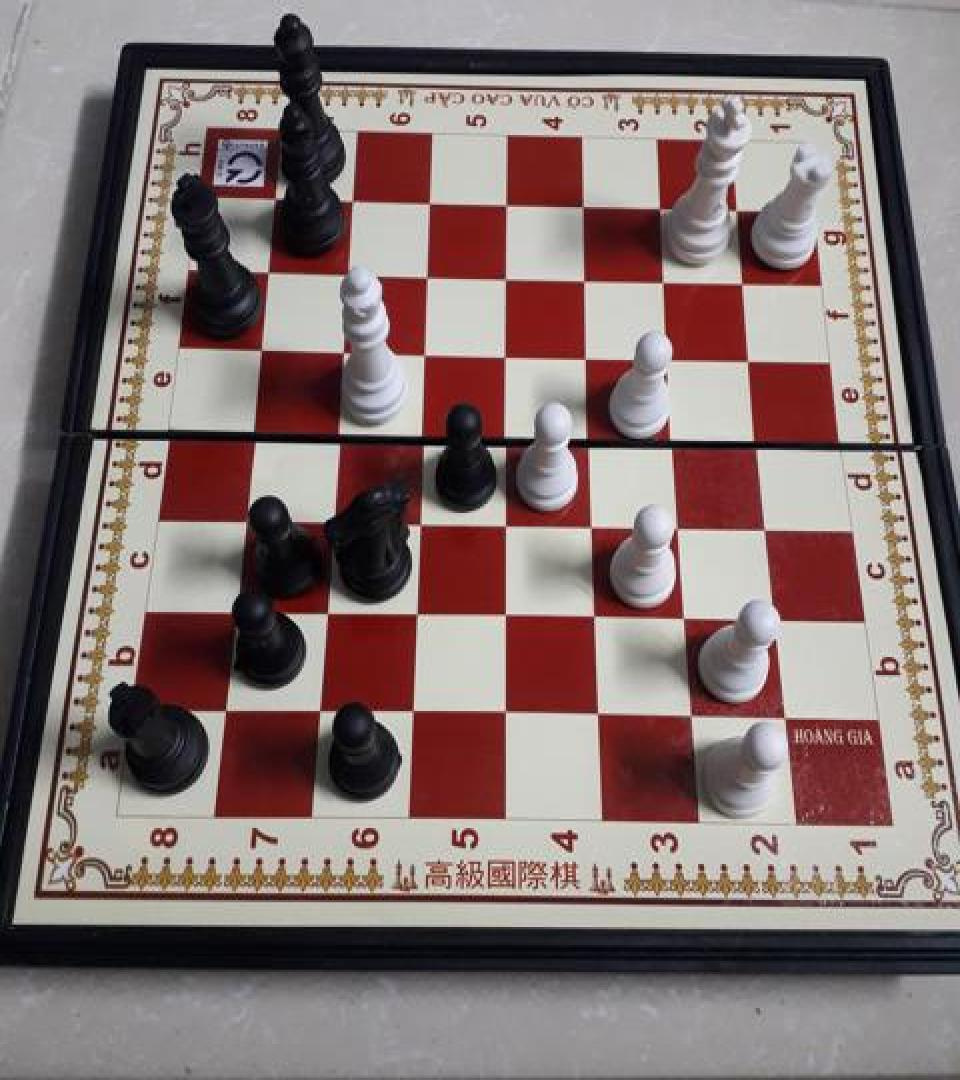xcorner: (584, 696, 616, 733), (677, 697, 709, 734), (769, 698, 801, 735), (210, 691, 242, 727), (304, 692, 336, 728), (398, 693, 430, 729), (491, 695, 523, 731), (220, 592, 252, 628), (311, 593, 343, 629), (402, 595, 434, 631), (492, 596, 524, 632), (582, 598, 614, 634), (671, 600, 703, 636), (760, 601, 792, 637), (229, 498, 261, 534), (318, 500, 350, 536), (406, 502, 438, 538), (493, 504, 525, 540), (580, 505, 612, 541), (667, 508, 699, 544), (753, 508, 785, 544), (238, 412, 270, 448), (324, 413, 356, 449), (409, 415, 441, 451), (494, 418, 526, 454), (578, 418, 610, 454), (662, 421, 694, 457), (745, 423, 777, 459), (247, 330, 279, 366), (330, 332, 362, 368), (412, 334, 444, 370), (494, 335, 526, 371), (576, 338, 608, 374), (658, 340, 690, 376), (739, 342, 771, 378), (255, 252, 287, 288), (335, 254, 367, 290), (415, 256, 447, 292), (495, 259, 527, 295), (574, 261, 606, 297), (654, 263, 686, 299), (732, 266, 764, 302), (262, 180, 294, 216), (340, 182, 372, 218), (418, 184, 450, 220), (496, 187, 528, 223), (573, 189, 605, 225), (650, 191, 682, 227), (726, 194, 758, 230)
